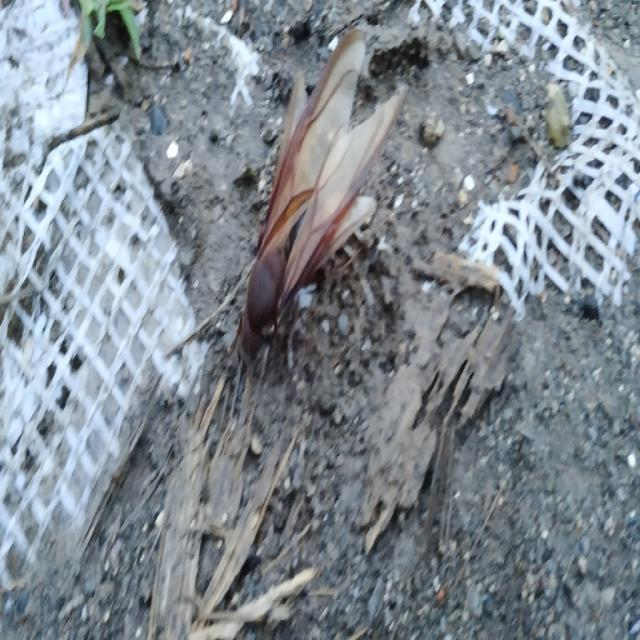Alive-Female-Alate: (225, 27, 406, 376)
